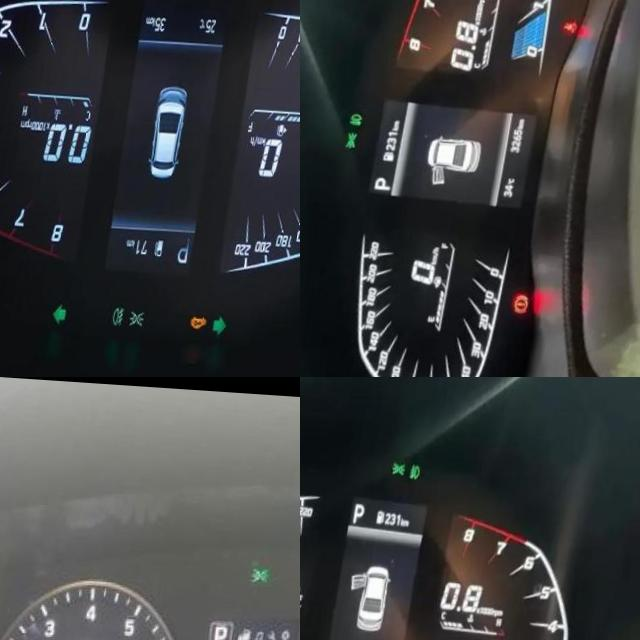Seat Belt: (567, 14, 584, 29)
